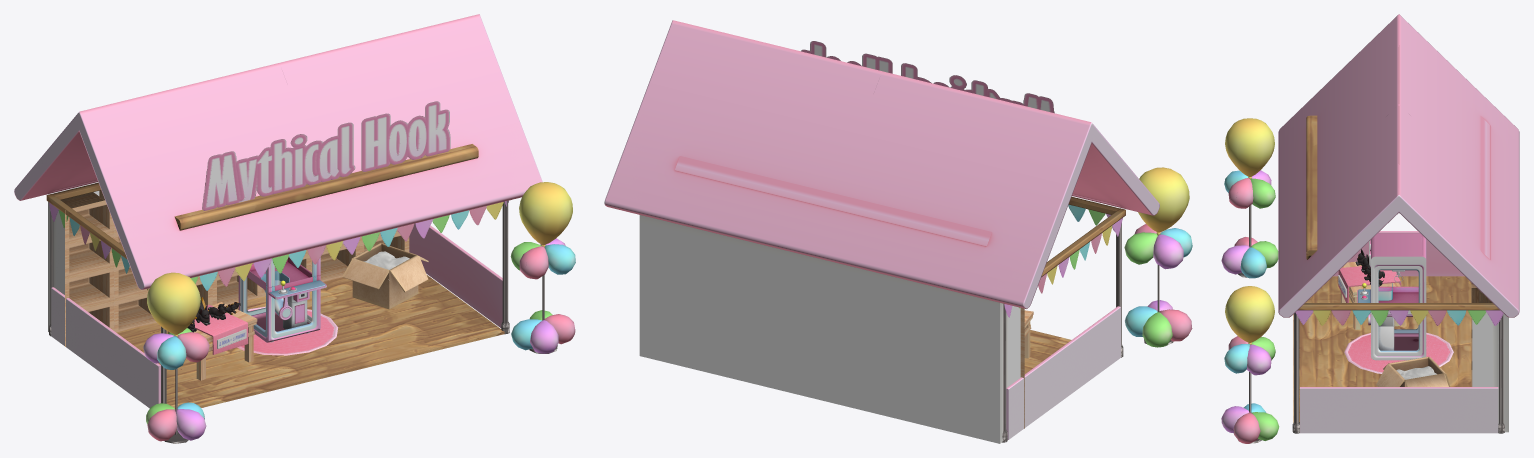
File: ENTILAND2.fbx
3 views of the same model, side by side, from view 1: azimuth 30°, elevation 25°; view 2: azimuth 150°, elevation 25°; view 3: azimuth 270°, elevation 25° (orthographic). The views are drawn at different scales.
Parts seen in each view (by area): view 1: base de letra, stuff_floor, Cylinder.001, Plane, stuff_floor.001, Cube.006, Maquina, Plane.003, Box; view 2: base de letra, Cylinder.001, stuff_floor.001, Plane, Plane.003, stuff_floor; view 3: base de letra, stuff_floor, Cylinder.001, stuff_floor.001, Maquina, Plane.003, Box, Cube.006, Plane.001.
Boxes of the visible parts, x1=… form: base de letra: x1=14, y1=14, x2=542, y2=403; stuff_floor: x1=116, y1=275, x2=504, y2=408; Cylinder.001: x1=143, y1=182, x2=575, y2=443; Plane: x1=202, y1=101, x2=450, y2=210; stuff_floor.001: x1=51, y1=223, x2=502, y2=408; Cube.006: x1=61, y1=190, x2=409, y2=346; Maquina: x1=238, y1=256, x2=326, y2=342; Plane.003: x1=49, y1=200, x2=508, y2=290; Box: x1=342, y1=243, x2=428, y2=309; base de letra: x1=604, y1=20, x2=1159, y2=443; Cylinder.001: x1=1124, y1=167, x2=1192, y2=347; stuff_floor.001: x1=1006, y1=306, x2=1120, y2=439; Plane: x1=801, y1=41, x2=1054, y2=113; Plane.003: x1=1004, y1=204, x2=1122, y2=317; stuff_floor: x1=1024, y1=310, x2=1071, y2=373; base de letra: x1=1278, y1=14, x2=1519, y2=433; stuff_floor: x1=1293, y1=261, x2=1471, y2=422; Cylinder.001: x1=1221, y1=118, x2=1279, y2=443; stuff_floor.001: x1=1300, y1=231, x2=1498, y2=433; Maquina: x1=1357, y1=233, x2=1426, y2=360; Plane.003: x1=1295, y1=310, x2=1503, y2=325; Box: x1=1376, y1=356, x2=1450, y2=386; Cube.006: x1=1471, y1=283, x2=1492, y2=386; Plane.001: x1=1396, y1=366, x2=1436, y2=379.
Bounding box in the file's own units: 911 × 557 × 600.
